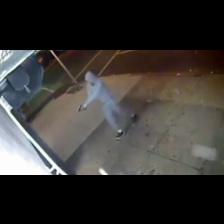person: (78, 72, 127, 140)
